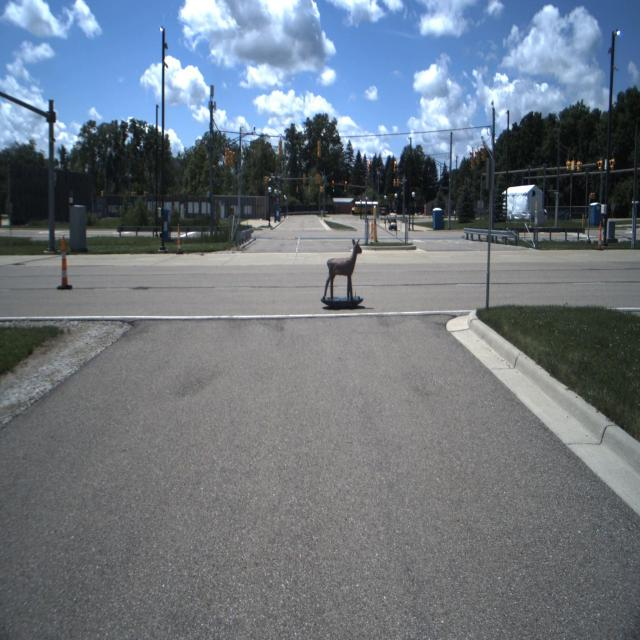Deer: (321, 237, 364, 300)
